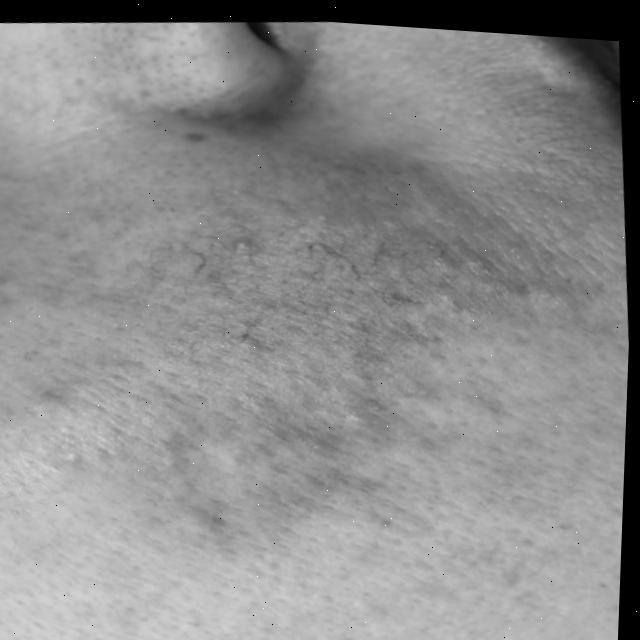Rosacea: (105, 196, 452, 551)
